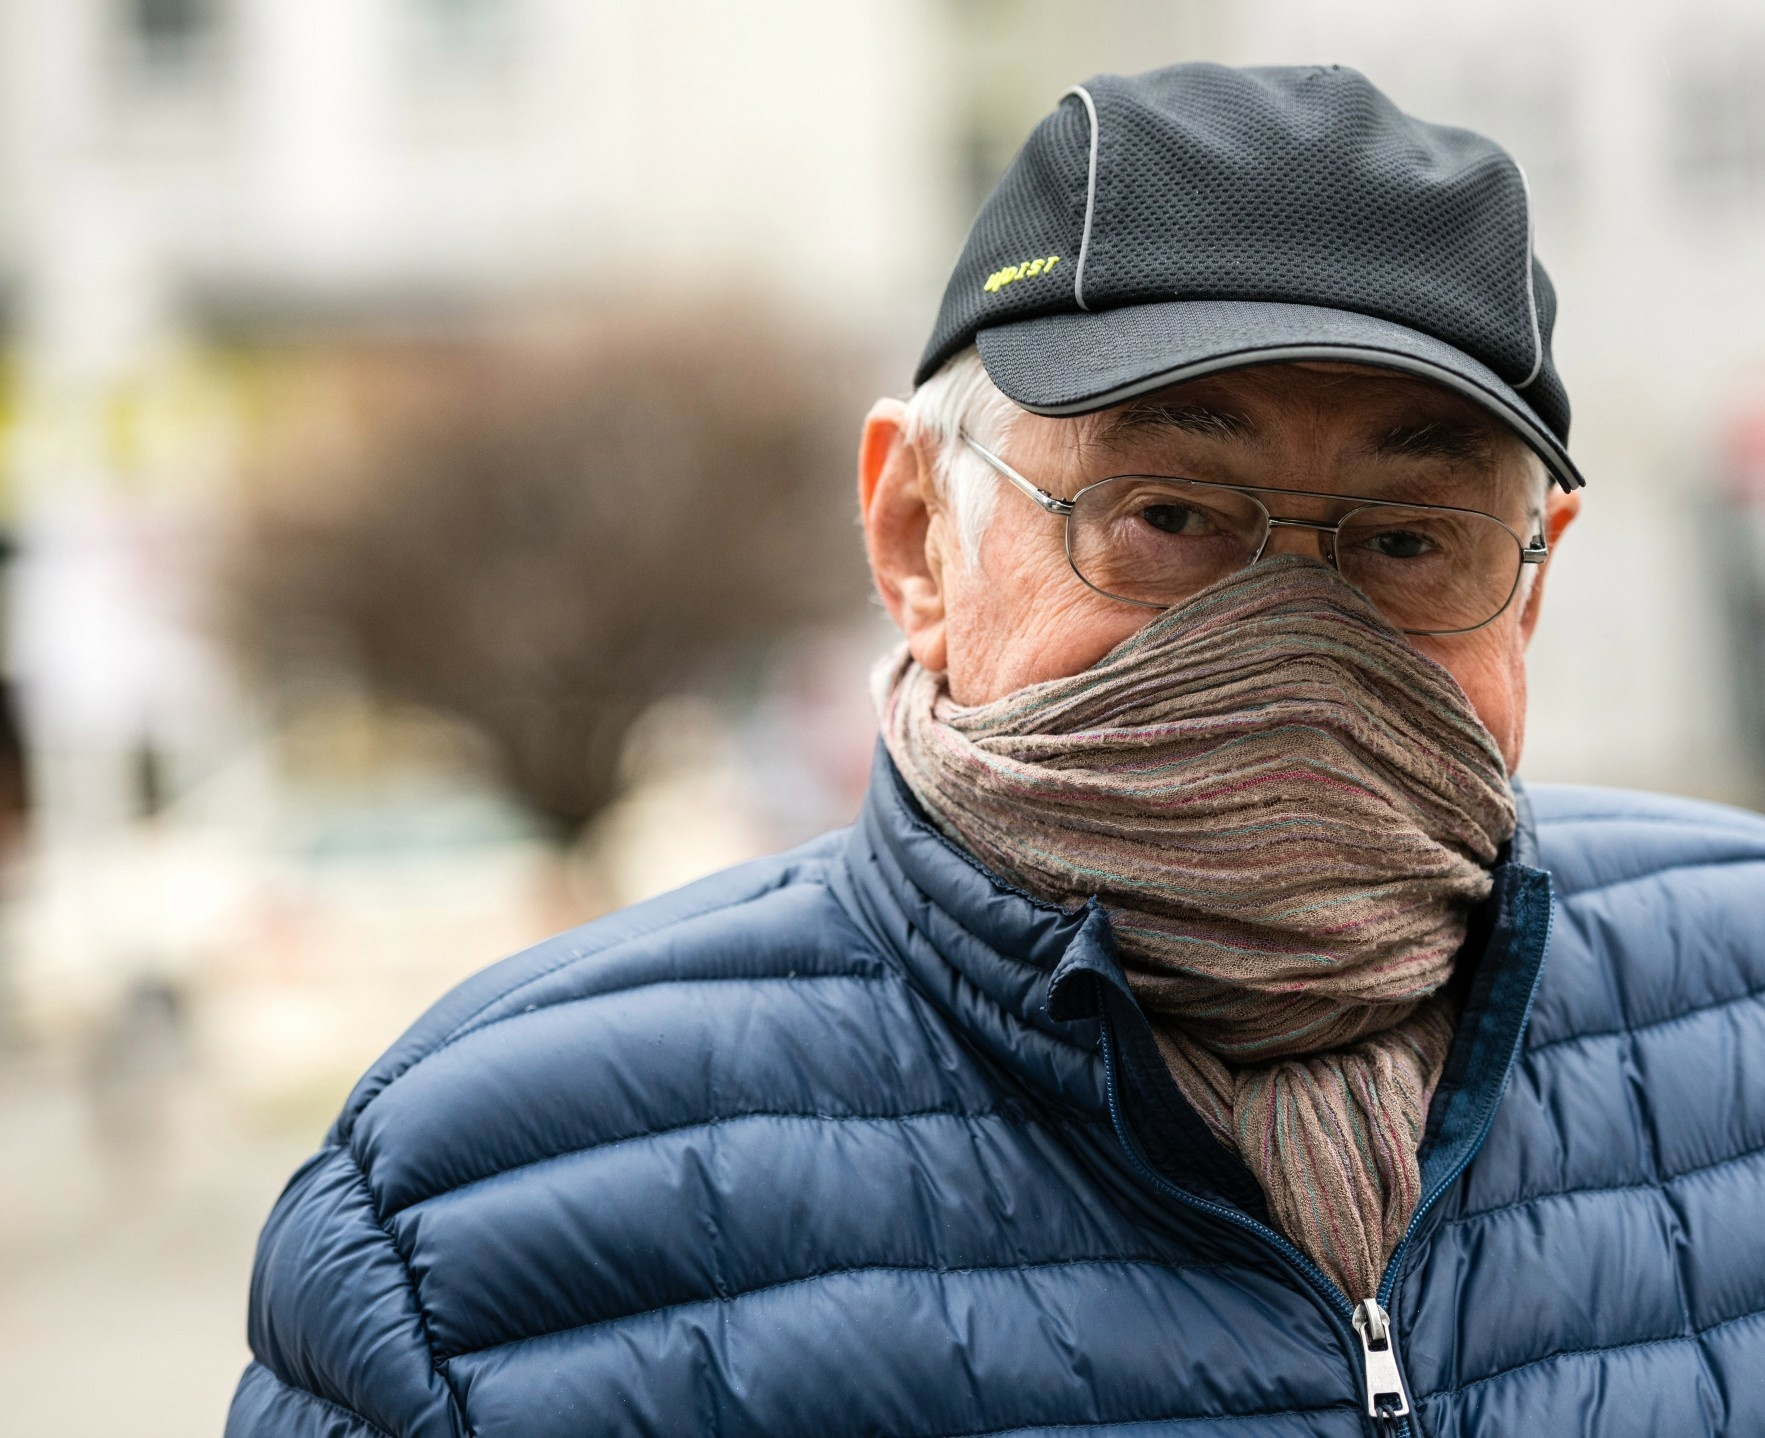with_mask: (856, 136, 1611, 1113)
